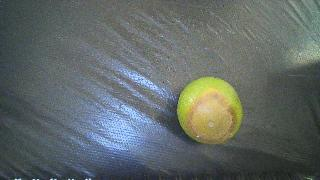DESECHO: (177, 77, 243, 144)
